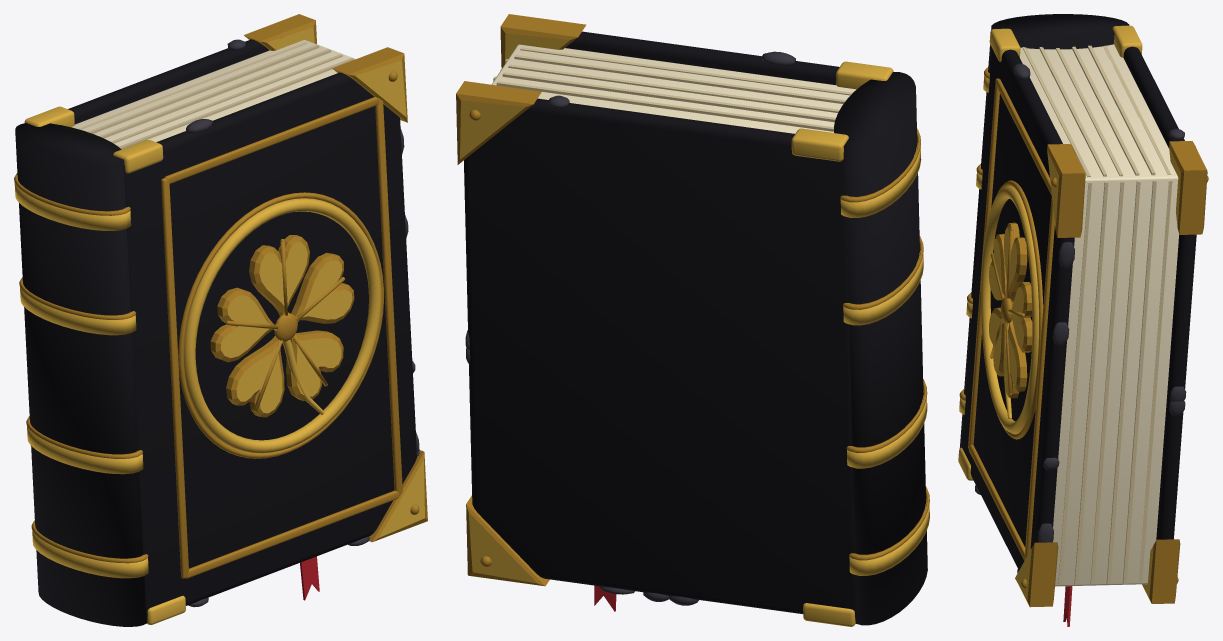
File: grimoire.glb
3 views of the same model, side by side, from view 1: azimuth 30°, elevation 25°; view 2: azimuth 150°, elevation 25°; view 3: azimuth 270°, elevation 25° (orthographic). The views are drawn at different scales.
Parts seen in each view (by area): view 1: grimoire; view 2: grimoire; view 3: grimoire.
Boxes of the visible parts, x1,y1,x2,y2 form: grimoire: [14, 14, 427, 626]; grimoire: [456, 14, 929, 626]; grimoire: [958, 14, 1208, 626].
Size of the model in its own units: 0.7418 by 1 by 0.4568.
